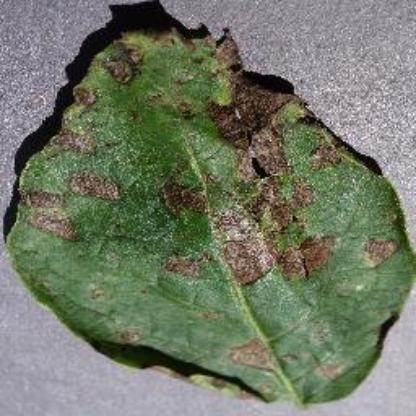Early-Blight: (8, 14, 416, 408)
